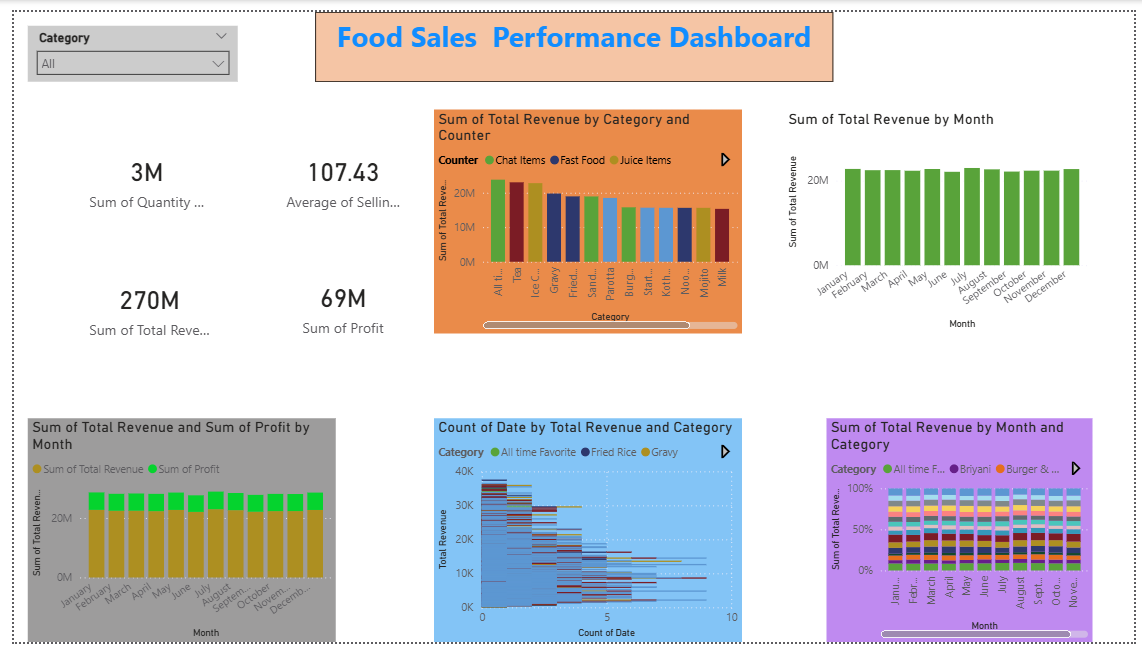

The dashboard page shown, as its layout file describes it:
{"tool":"powerbi","page":{"name":"parry's corner (1 to 5)","canvas":[1280,720],"ordinal":0},"visuals":[{"type":"columnChart","fields":{"Category":["Overall sheet.Category"],"Series":["Overall sheet.Counter"],"Y":["Sum(Overall sheet.Total Revenue)"]},"box":[480,112,352,256],"z":0},{"type":"barChart","fields":{"Series":["Overall sheet.Category"],"Category":["Overall sheet.Total Revenue"],"Y":["CountNonNull(Overall sheet.Date)"]},"box":[480,464,352,256],"z":1000},{"type":"columnChart","fields":{"Category":["Overall sheet.Date.Variation.Date Hierarchy.Month"],"Y":["Sum(Overall sheet.Total Revenue)","Sum(Overall sheet.Profit)"]},"box":[16,464,352,256],"z":2000},{"type":"hundredPercentStackedColumnChart","fields":{"Category":["Overall sheet.Date.Variation.Date Hierarchy.Month"],"Y":["Sum(Overall sheet.Total Revenue)"],"Series":["Overall sheet.Category"]},"box":[928,464,304,256],"z":3000},{"type":"slicer","fields":{"Values":["Category.Category"]},"box":[16,16,240,64],"z":4000},{"type":"textbox","box":[344,0,592,80],"z":5000},{"type":"clusteredColumnChart","fields":{"Category":["Overall sheet.Date.Variation.Date Hierarchy.Month"],"Y":["Sum(Overall sheet.Total Revenue)"]},"box":[880,112,352,256],"z":6000},{"type":"card","fields":{"Values":["Sum(Overall sheet.Total Revenue)"]},"box":[80,288,150,100],"z":7000},{"type":"card","fields":{"Values":["Sum(Overall sheet.Profit)"]},"box":[304,288,144,96],"z":8000},{"type":"card","fields":{"Values":["Sum(Overall sheet.Quantity Sold)"]},"box":[80,144,144,96],"z":9000},{"type":"card","fields":{"Values":["Avg(Overall sheet.Selling Price)"]},"box":[304,144,144,96],"z":10000}]}

Visuals, with their boxes in screenshot pixels (x1, y1, x2, y2), scaled from the page's 1280x720 canvas onto the 1142x651 screenshot:
columnChart - Overall sheet.Category x Overall sheet.Counter: BBox(428, 101, 742, 333)
barChart - Overall sheet.Category x Overall sheet.Total Revenue: BBox(428, 420, 742, 650)
columnChart - Overall sheet.Date.Variation.Date Hierarchy.Month x Sum(Overall sheet.Total Revenue): BBox(14, 420, 328, 650)
hundredPercentStackedColumnChart - Overall sheet.Date.Variation.Date Hierarchy.Month x Sum(Overall sheet.Total Revenue): BBox(828, 420, 1099, 650)
slicer - Category.Category: BBox(14, 14, 228, 72)
textbox: BBox(307, 0, 835, 72)
clusteredColumnChart - Overall sheet.Date.Variation.Date Hierarchy.Month x Sum(Overall sheet.Total Revenue): BBox(785, 101, 1099, 333)
card - Sum(Overall sheet.Total Revenue): BBox(71, 260, 205, 351)
card - Sum(Overall sheet.Profit): BBox(271, 260, 400, 347)
card - Sum(Overall sheet.Quantity Sold): BBox(71, 130, 200, 217)
card - Avg(Overall sheet.Selling Price): BBox(271, 130, 400, 217)
